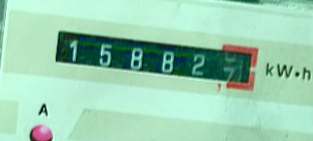1: (66, 37, 81, 64)
2: (189, 52, 208, 79)
5: (97, 42, 114, 69)
7: (220, 64, 237, 83)
8: (128, 45, 147, 72), (160, 49, 177, 76)
screen: (44, 19, 268, 101)
